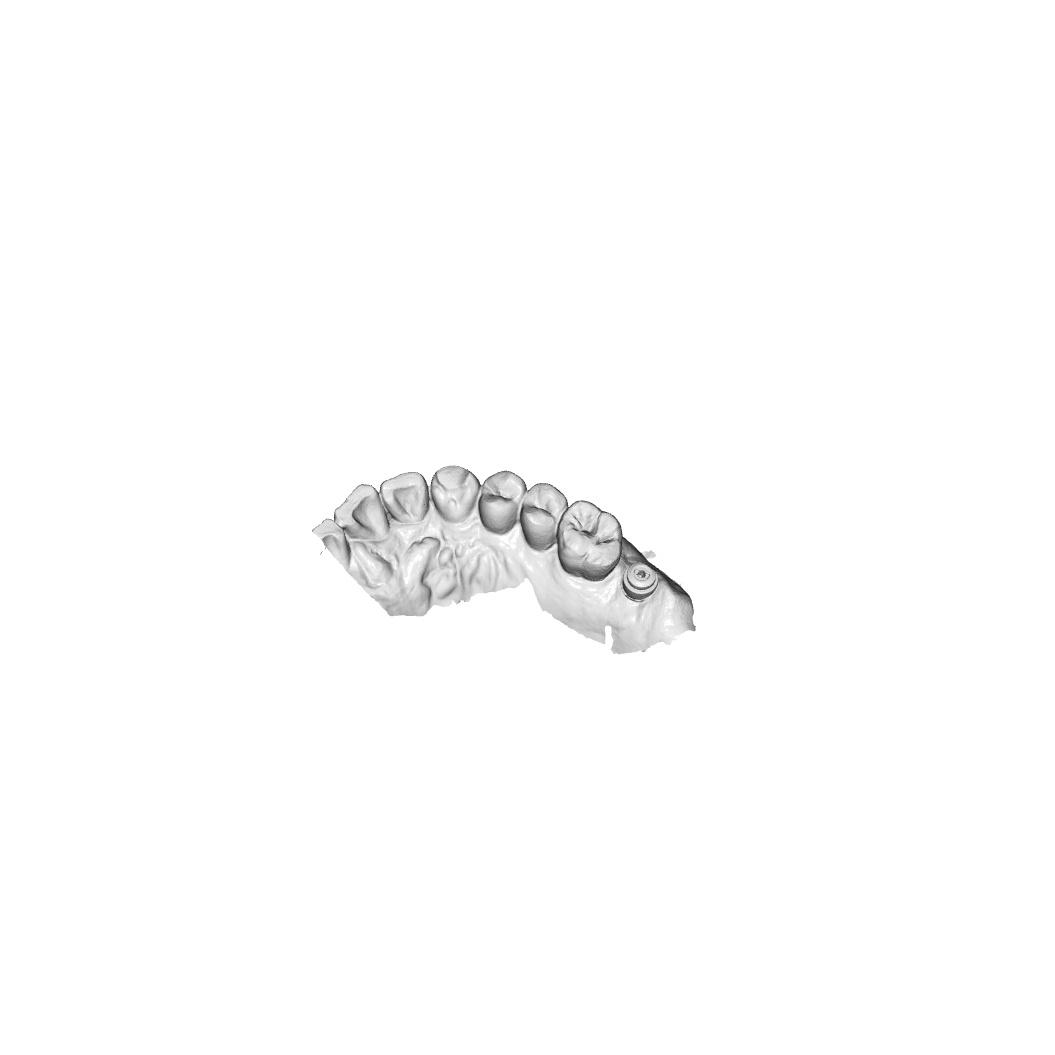canine: (429, 464, 482, 524)
implant_minus: (619, 559, 660, 603)
incisor: (332, 483, 391, 541), (379, 471, 431, 525)
molar: (556, 499, 624, 584)
premolar: (519, 482, 570, 552), (478, 470, 528, 536)
